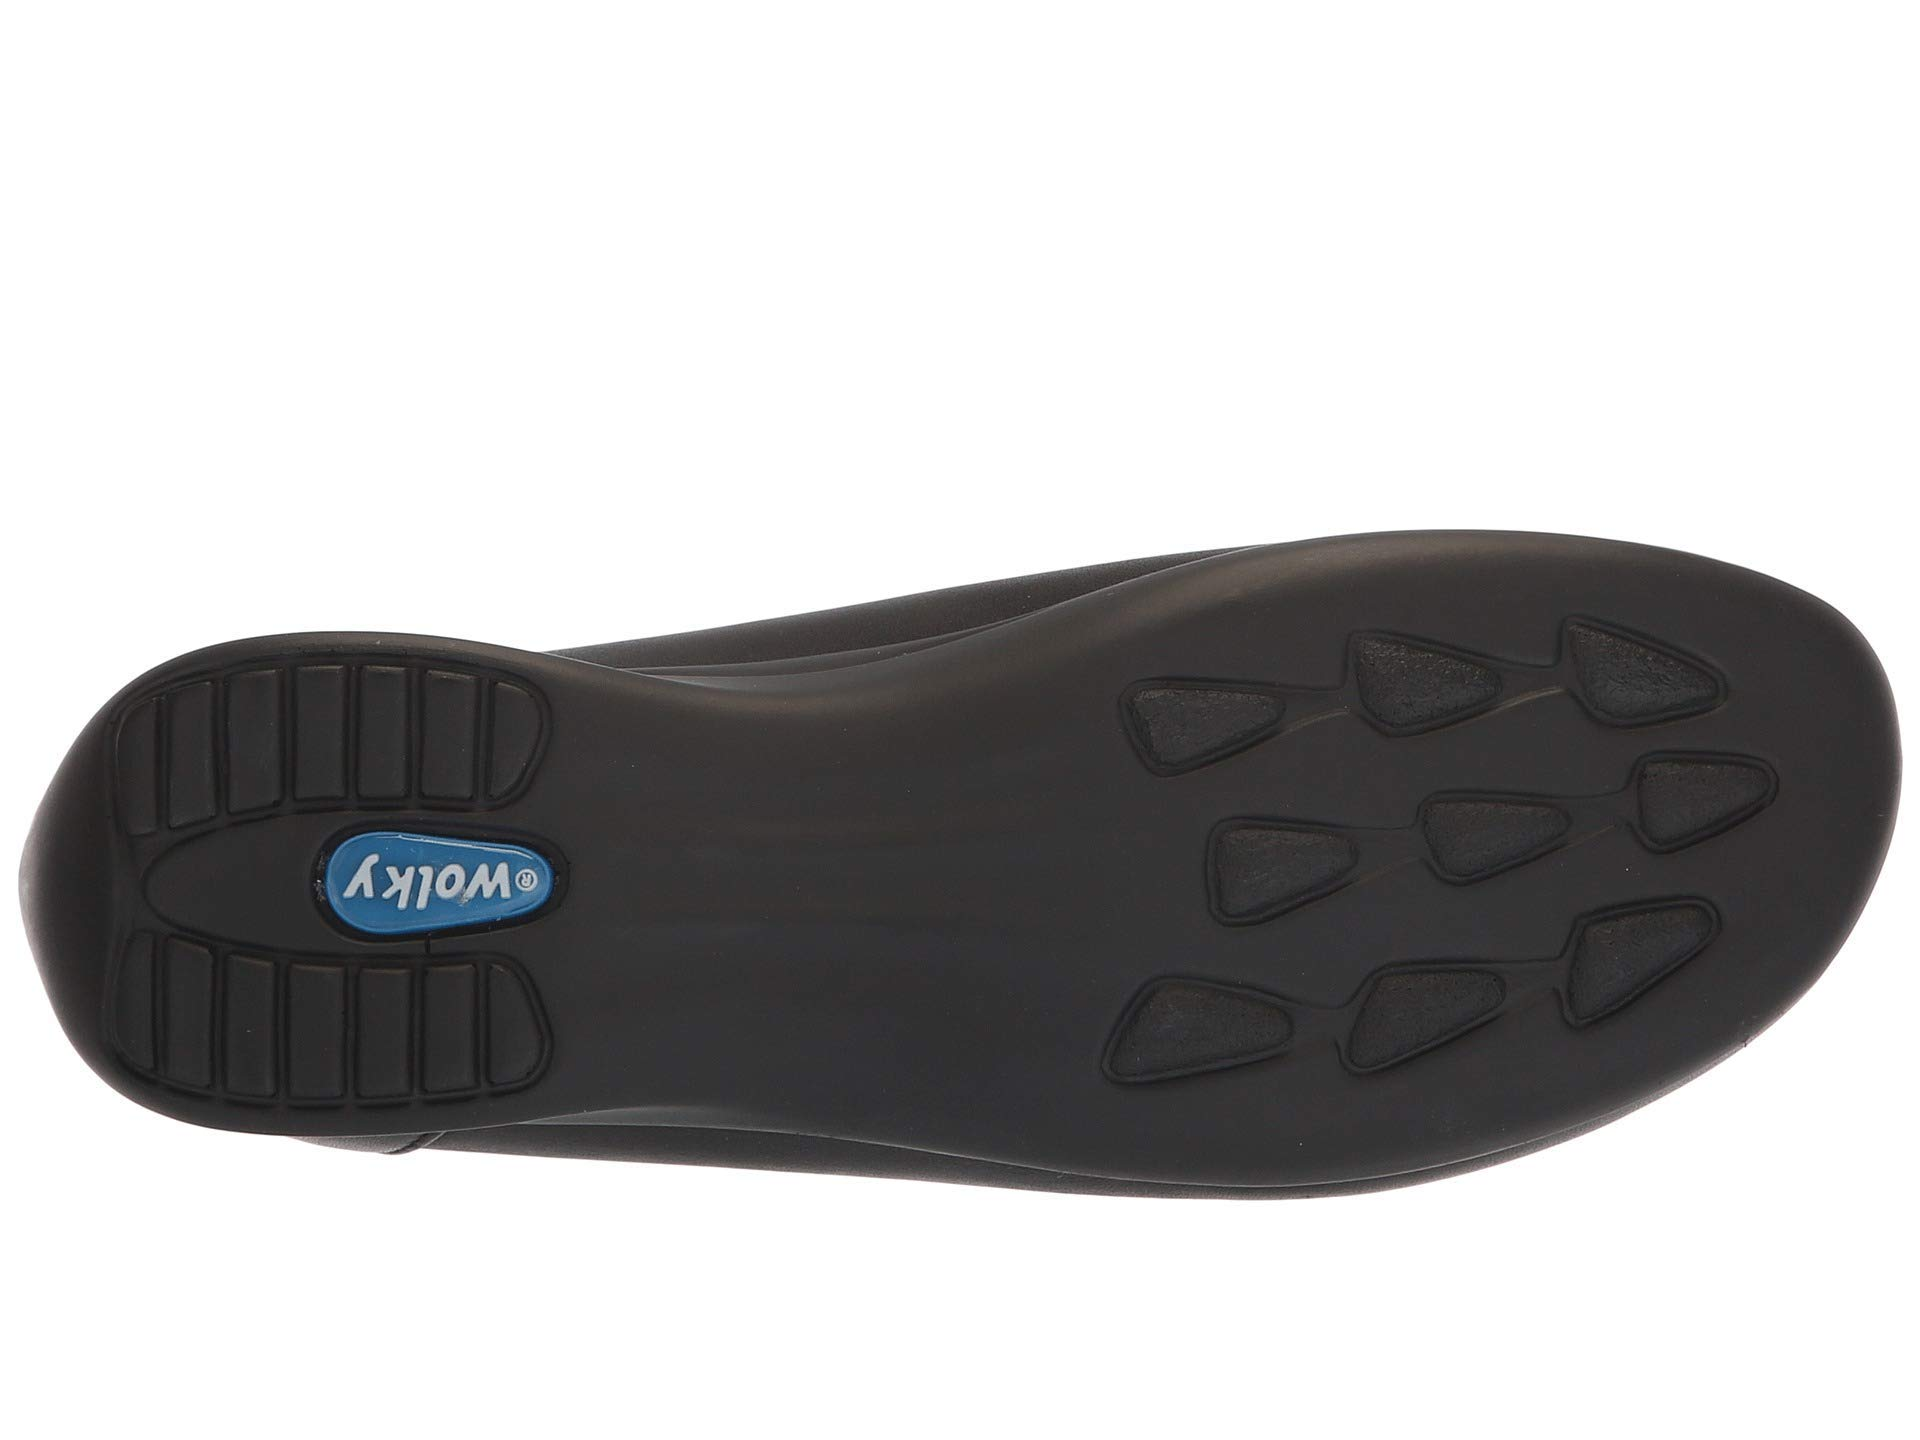circle: (231, 752, 603, 998)
text: (231, 752, 603, 998)
